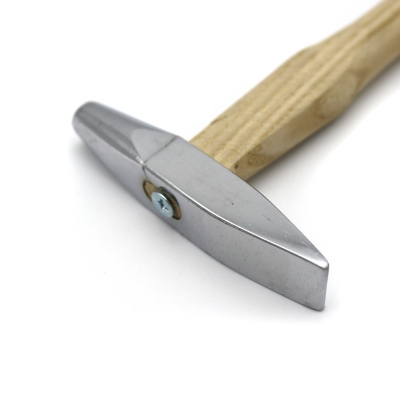hammer: (68, 7, 354, 317)
